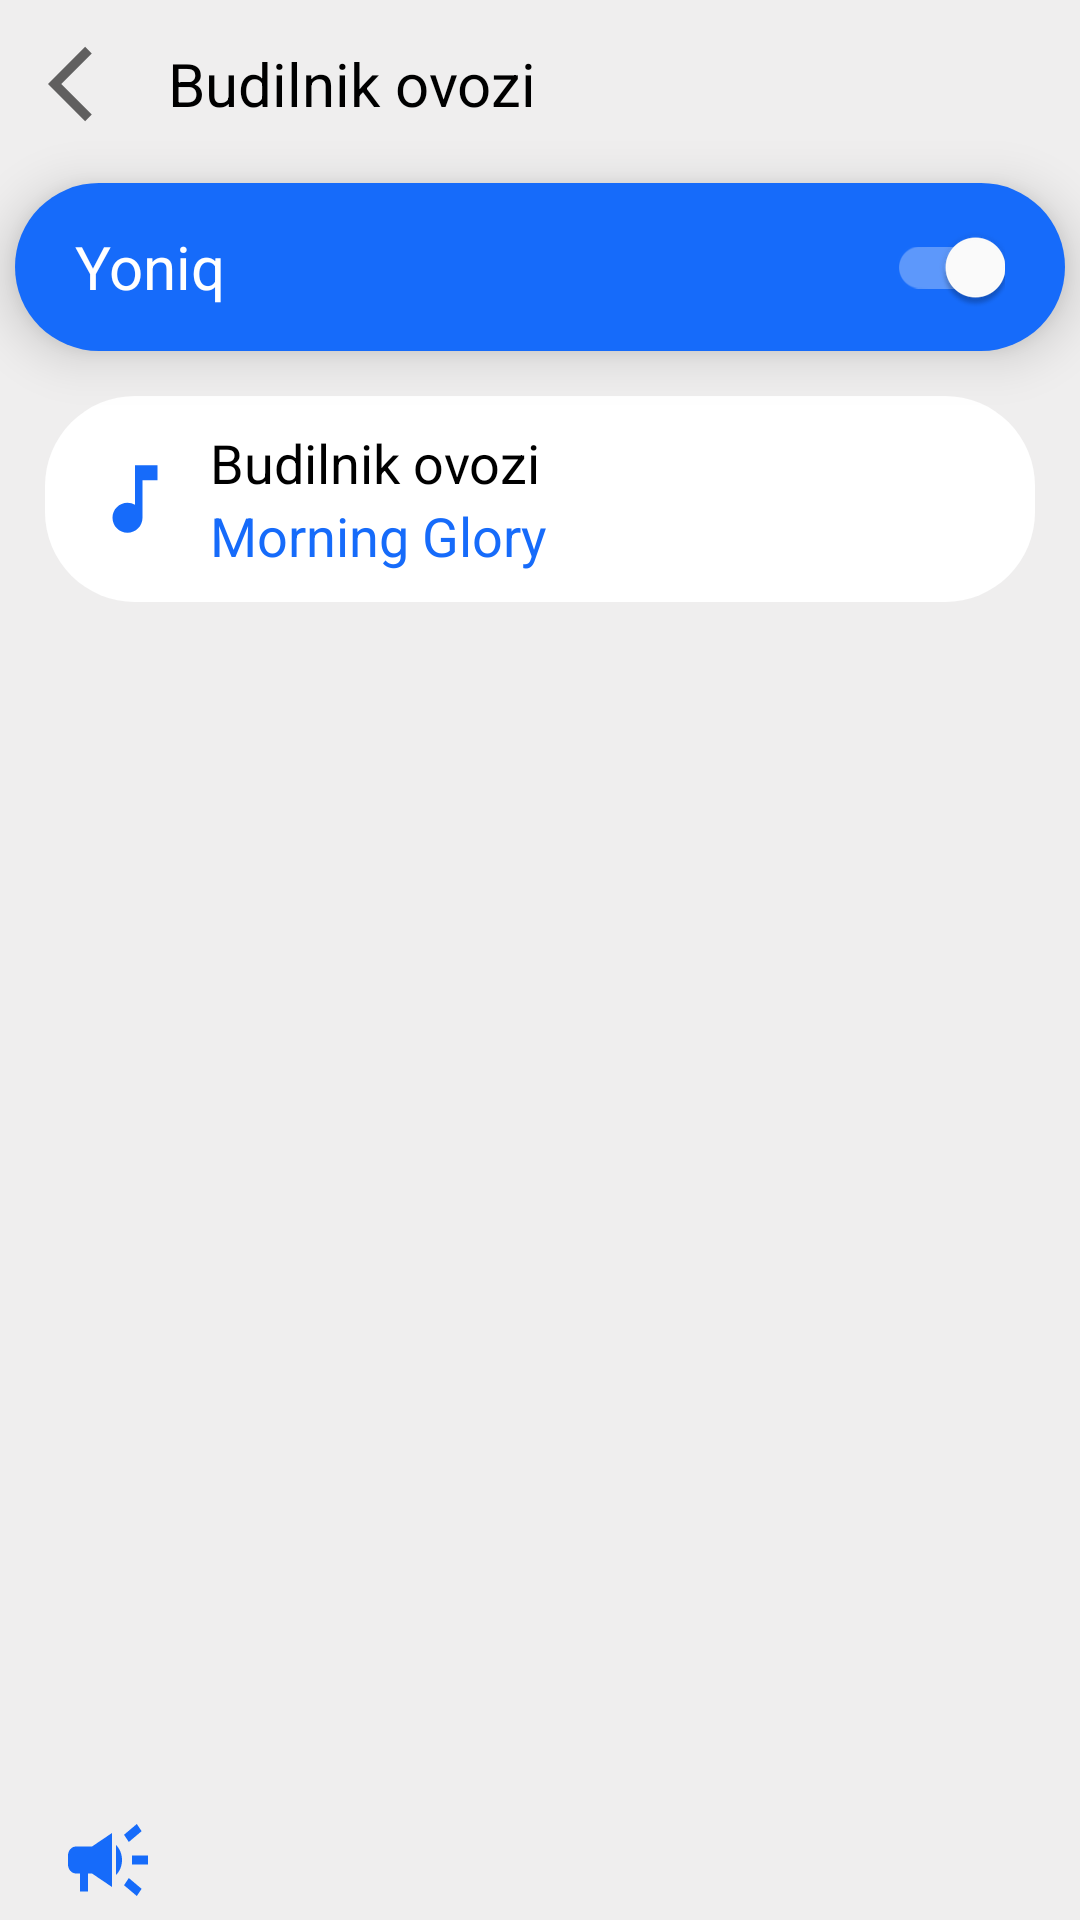

Point at icon controls on the screen. Image size 1080*1920, points as (x=x, y=y).
back arrow: (x=70, y=84)
music: (x=135, y=499)
